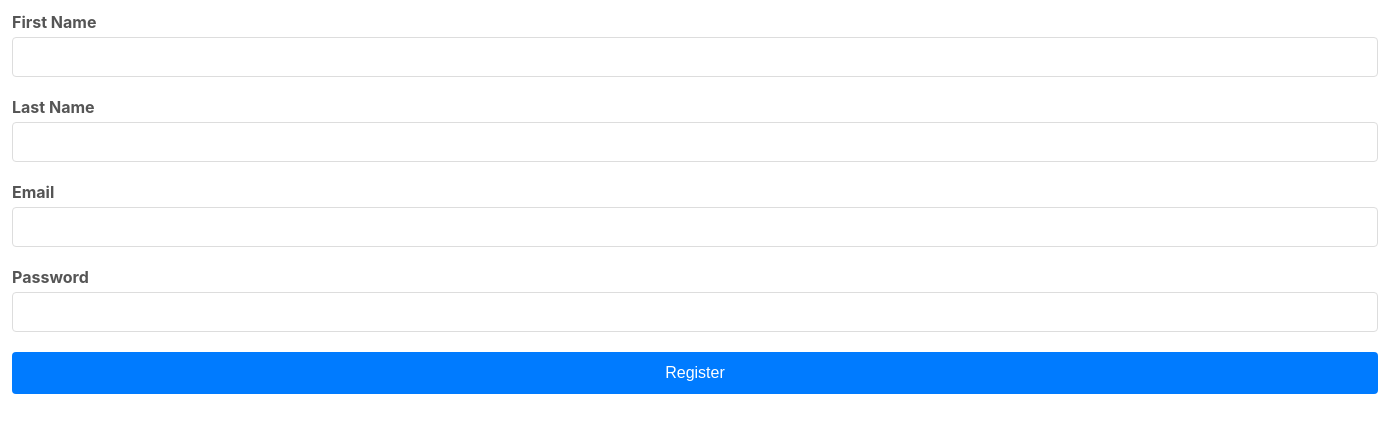
Test case: RegisterForm › submits form with valid data
Type "John" into the field labelled "First Name" at (695, 57), box 12,37 -> 1378,77
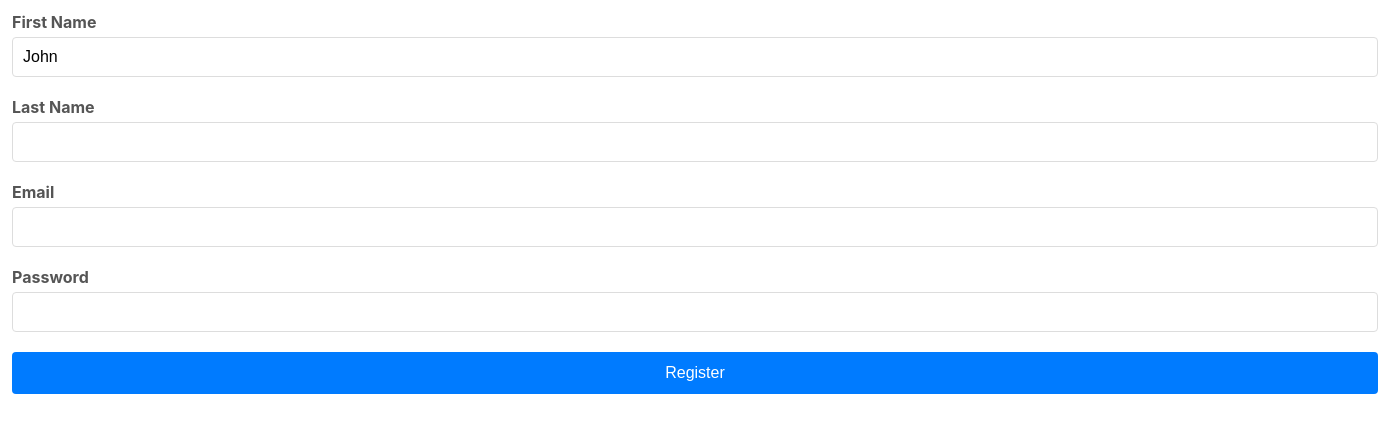
Type "Doe" into the field labelled "Last Name" at (695, 142), box 12,122 -> 1378,162
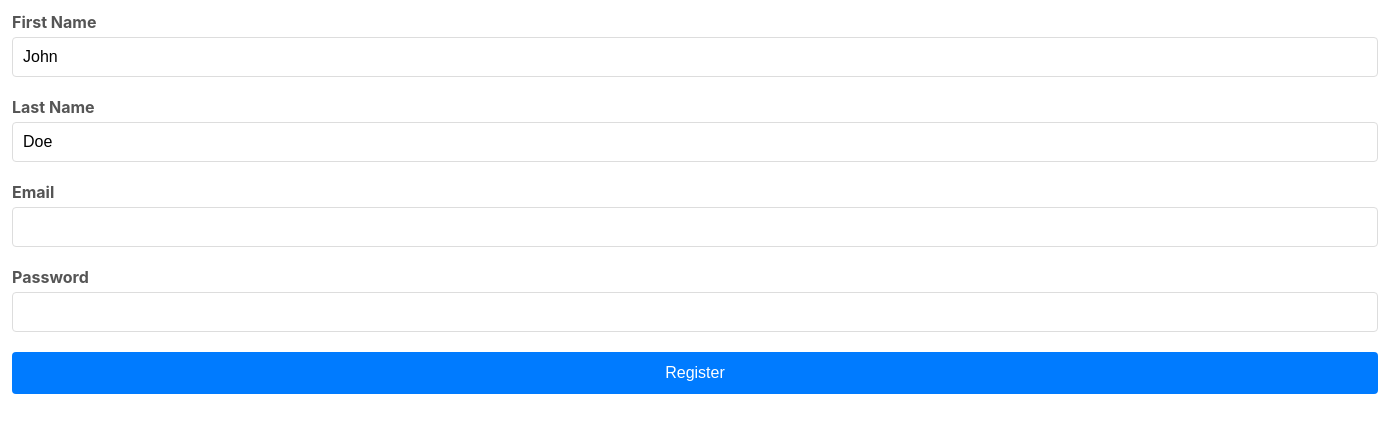
Type "john.doe@example.com" into the field labelled "Email" at (695, 227), box 12,207 -> 1378,247
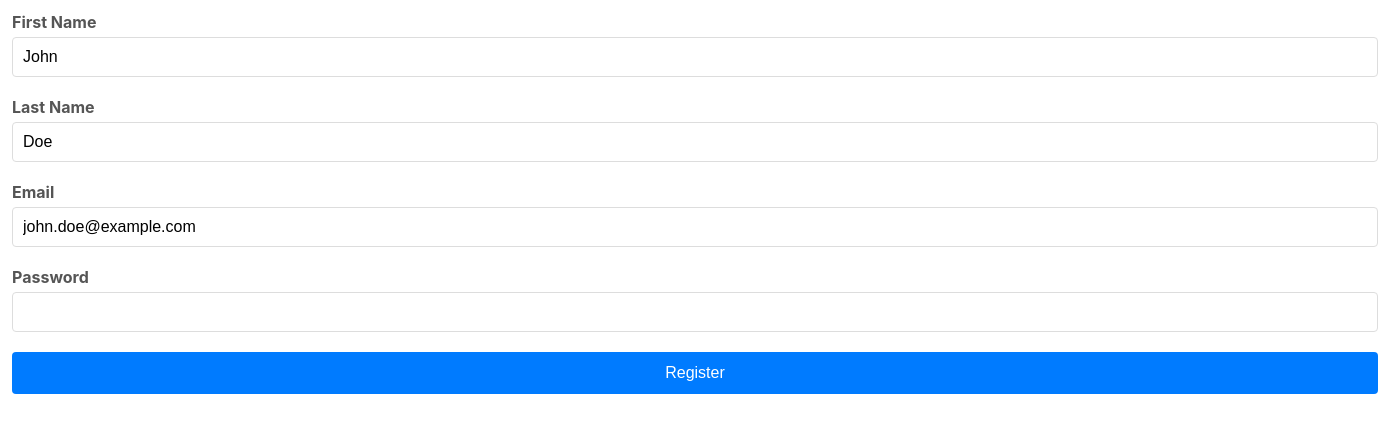
Type "password123" into the password field labelled "Password" at (695, 312), box 12,292 -> 1378,332
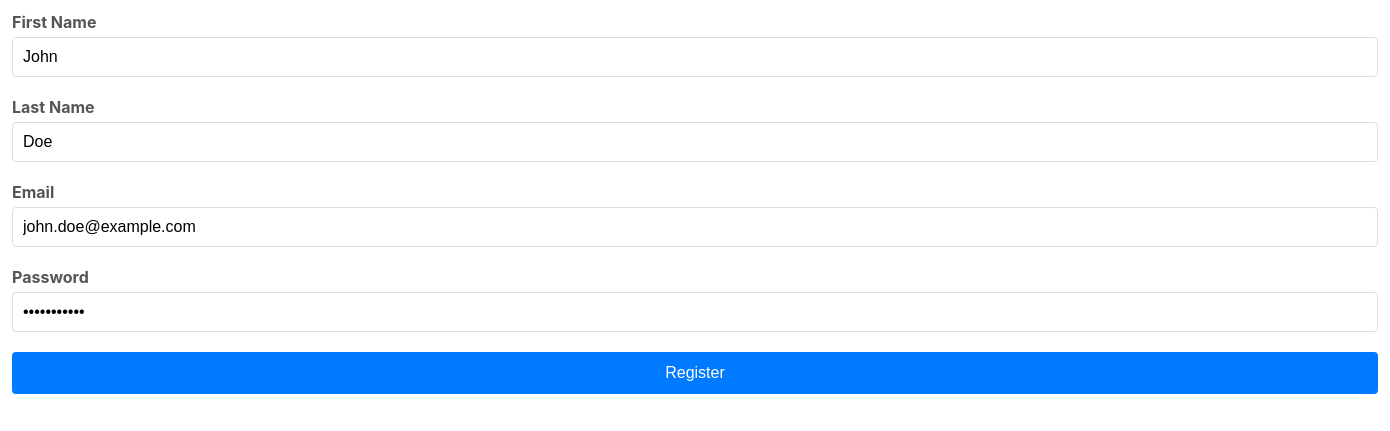
Click the button "Register" at (695, 373), box 12,352 -> 1378,394
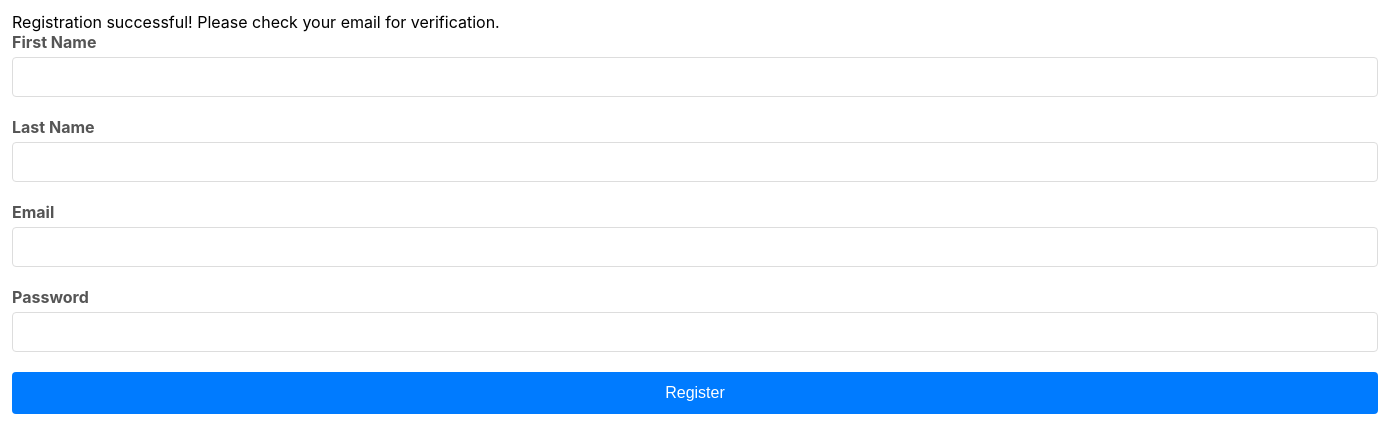
Result: the text "Registration successful! Please check your email for verification" is shown at 12,12 -> 500,32
